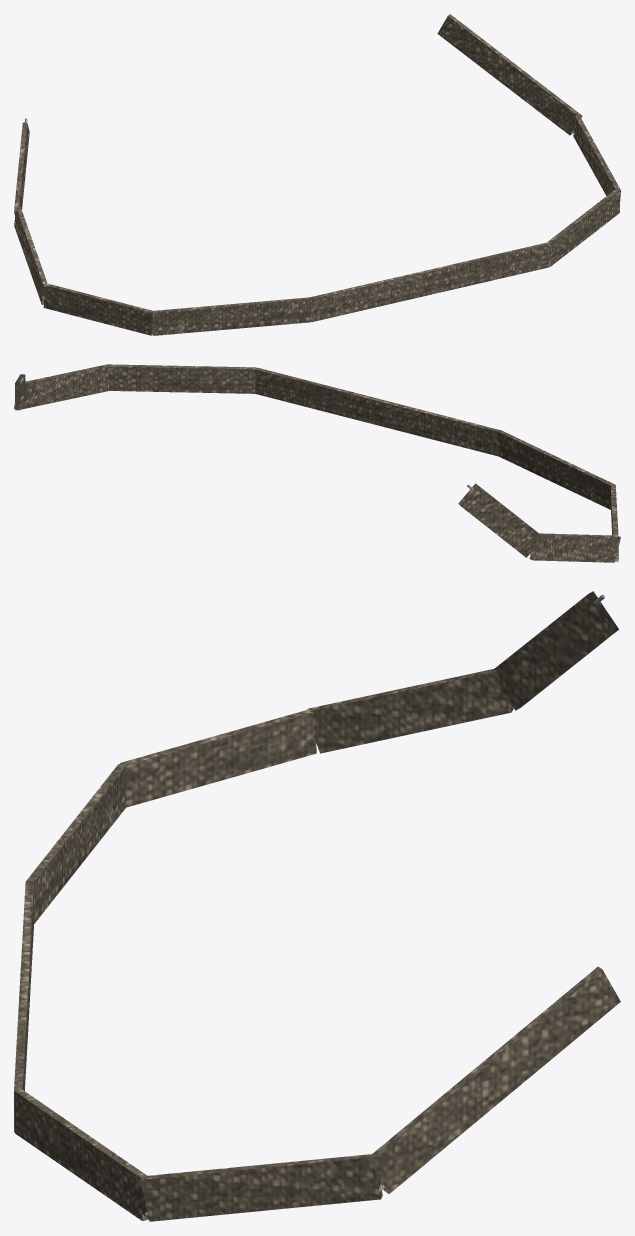
File: flex_optic_lanyard.fbx
3 renders of one model, top to bottom at view 1: azimuth 30°, elevation 25°; view 2: azimuth 150°, elevation 25°; view 3: azimuth 270°, elevation 25°, orthographic. The views are drawn at different scales.
Visible parts, largest first — view 1: SM_flex_optic_lanyard; view 2: SM_flex_optic_lanyard; view 3: SM_flex_optic_lanyard.
Part boxes in pixels (x1=…): SM_flex_optic_lanyard: x1=14, y1=14, x2=620, y2=335; SM_flex_optic_lanyard: x1=14, y1=364, x2=620, y2=562; SM_flex_optic_lanyard: x1=14, y1=591, x2=620, y2=1221.
Bounding box in the file's own units: 0.2017 × 0.0415 × 0.1047.
2 materials, 2 textured.
